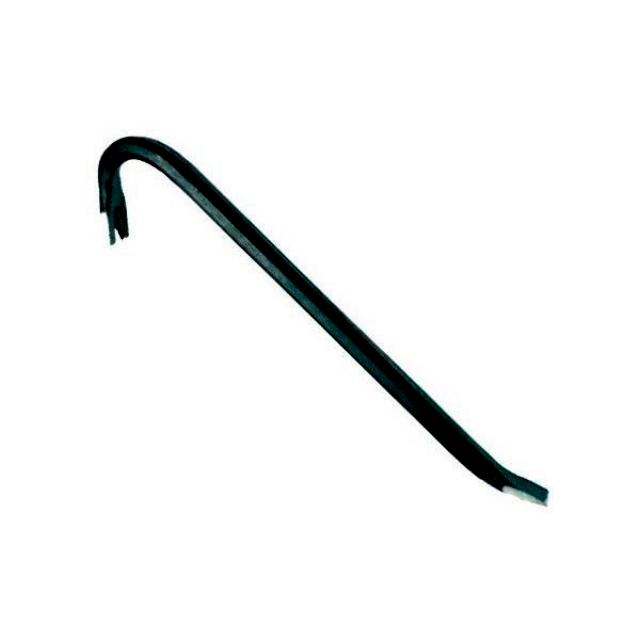crow bar: (67, 113, 555, 524)
